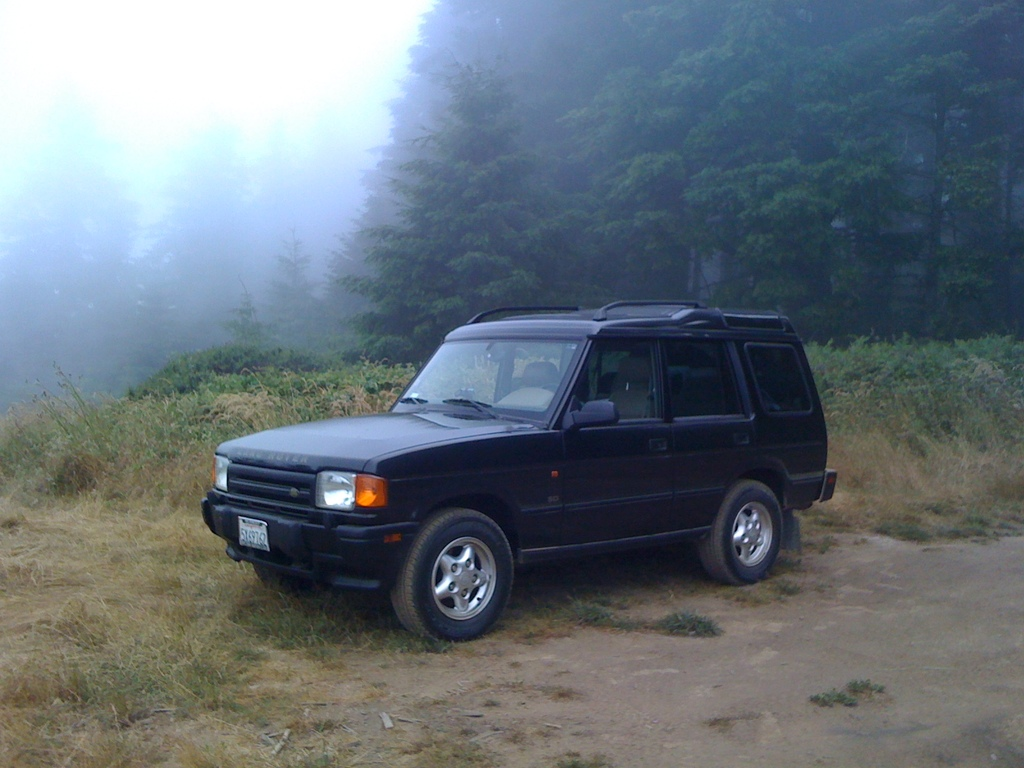Car: (200, 299, 837, 642)
